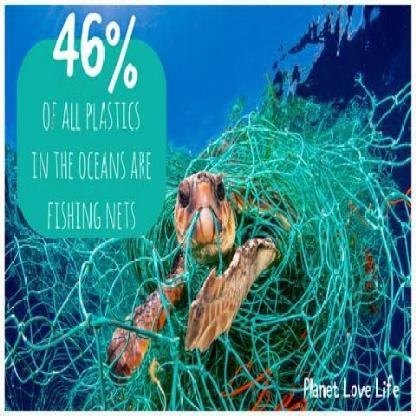net: (121, 99, 408, 404)
